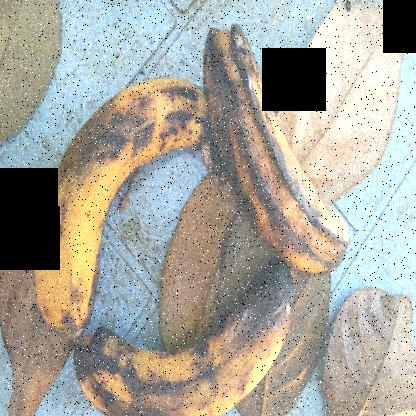overripe: (27, 60, 204, 332), (58, 283, 311, 415)
rotten: (198, 20, 354, 278)
